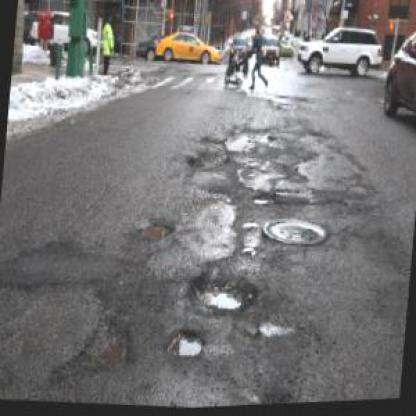pothole: (187, 273, 255, 319), (91, 323, 136, 373), (164, 323, 206, 363), (133, 216, 176, 246), (251, 193, 275, 208)
